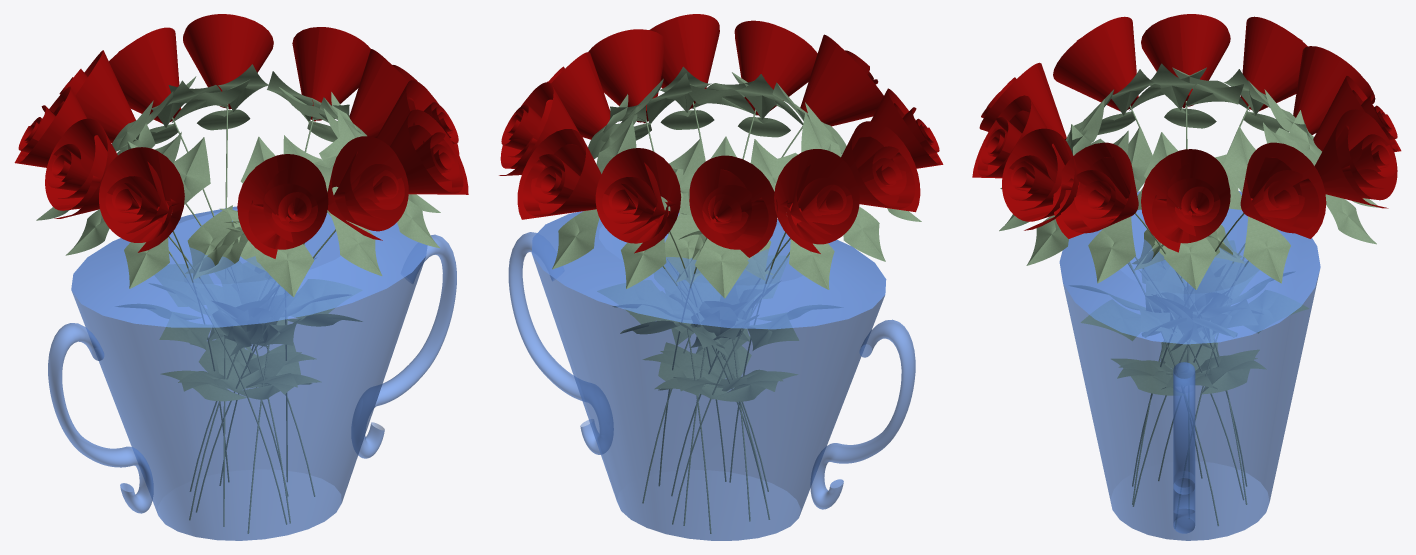
Rendered from roses.obj.
3 renders of one model, left to right at view 1: azimuth 30°, elevation 25°; view 2: azimuth 150°, elevation 25°; view 3: azimuth 270°, elevation 25°, orthographic.
Parts seen in each view (by area): view 1: Mesh169 Component_11_1 Model, Mesh171 Model, Mesh96 Component_6_7 Component_7_7 Component_9_3 Component_10_2 , Mesh166 Component_6_12 Component_7_12 Component_9_4 Component_10, Mesh170 Model, Mesh54 Component_6_4 Component_7_4 Component_9_2 Component_10_1 , Mesh40 Component_6_3 Component_7_3 Component_9_1 Component_10_1 , Mesh110 Component_6_8 Component_7_8 Component_9_3 Component_10_2, Mesh152 Component_6_11 Component_7_11 Component_9_4 Component_10, Mesh68 Component_6_5 Component_7_5 Component_9_2 Component_10_1 , Mesh124 Component_6_9 Component_7_9 Component_9_3 Component_10_2, Mesh138 Component_6_10 Component_7_10 Component_9_4 Component_10 (+43 smaller); view 2: Mesh169 Component_11_1 Model, Mesh171 Model, Mesh170 Model, Mesh166 Component_6_12 Component_7_12 Component_9_4 Component_10, Mesh124 Component_6_9 Component_7_9 Component_9_3 Component_10_2, Mesh152 Component_6_11 Component_7_11 Component_9_4 Component_10, Mesh82 Component_6_6 Component_7_6 Component_9_2 Component_10_1 , Mesh12 Component_6_1 Component_7_1 Component_9_1 Component_10_1 , Mesh110 Component_6_8 Component_7_8 Component_9_3 Component_10_2, Mesh138 Component_6_10 Component_7_10 Component_9_4 Component_10, Mesh96 Component_6_7 Component_7_7 Component_9_3 Component_10_2 , Mesh68 Component_6_5 Component_7_5 Component_9_2 Component_10_1  (+43 smaller); view 3: Mesh169 Component_11_1 Model, Mesh40 Component_6_3 Component_7_3 Component_9_1 Component_10_1 , Mesh68 Component_6_5 Component_7_5 Component_9_2 Component_10_1 , Mesh26 Component_6_2 Component_7_2 Component_9_1 Component_10_1 , Mesh12 Component_6_1 Component_7_1 Component_9_1 Component_10_1 , Mesh171 Model, Mesh54 Component_6_4 Component_7_4 Component_9_2 Component_10_1 , Mesh96 Component_6_7 Component_7_7 Component_9_3 Component_10_2 , Mesh124 Component_6_9 Component_7_9 Component_9_3 Component_10_2, Mesh138 Component_6_10 Component_7_10 Component_9_4 Component_10, Mesh82 Component_6_6 Component_7_6 Component_9_2 Component_10_1 , Mesh166 Component_6_12 Component_7_12 Component_9_4 Component_10 (+44 smaller).
Part boxes in pixels (x1=…): Mesh169 Component_11_1 Model: x1=71, y1=206, x2=427, y2=540; Mesh171 Model: x1=352, y1=234, x2=456, y2=458; Mesh96 Component_6_7 Component_7_7 Component_9_3 Component_10_2 : x1=183, y1=14, x2=273, y2=109; Mesh166 Component_6_12 Component_7_12 Component_9_4 Component_10: x1=237, y1=154, x2=328, y2=258; Mesh170 Model: x1=48, y1=323, x2=153, y2=513; Mesh54 Component_6_4 Component_7_4 Component_9_2 Component_10_1 : x1=292, y1=27, x2=370, y2=121; Mesh40 Component_6_3 Component_7_3 Component_9_1 Component_10_1 : x1=99, y1=147, x2=184, y2=252; Mesh110 Component_6_8 Component_7_8 Component_9_3 Component_10_2: x1=109, y1=27, x2=181, y2=123; Mesh152 Component_6_11 Component_7_11 Component_9_4 Component_10: x1=327, y1=136, x2=408, y2=240; Mesh68 Component_6_5 Component_7_5 Component_9_2 Component_10_1 : x1=349, y1=49, x2=407, y2=137; Mesh124 Component_6_9 Component_7_9 Component_9_3 Component_10_2: x1=75, y1=50, x2=135, y2=142; Mesh138 Component_6_10 Component_7_10 Component_9_4 Component_10: x1=390, y1=109, x2=468, y2=194; Mesh169 Component_11_1 Model: x1=531, y1=211, x2=886, y2=540; Mesh171 Model: x1=508, y1=232, x2=613, y2=454; Mesh170 Model: x1=810, y1=319, x2=915, y2=509; Mesh166 Component_6_12 Component_7_12 Component_9_4 Component_10: x1=800, y1=34, x2=883, y2=126; Mesh124 Component_6_9 Component_7_9 Component_9_3 Component_10_2: x1=689, y1=155, x2=777, y2=257; Mesh152 Component_6_11 Component_7_11 Component_9_4 Component_10: x1=734, y1=20, x2=817, y2=116; Mesh82 Component_6_6 Component_7_6 Component_9_2 Component_10_1 : x1=588, y1=29, x2=663, y2=123; Mesh12 Component_6_1 Component_7_1 Component_9_1 Component_10_1 : x1=774, y1=149, x2=859, y2=253; Mesh110 Component_6_8 Component_7_8 Component_9_3 Component_10_2: x1=595, y1=148, x2=681, y2=253; Mesh138 Component_6_10 Component_7_10 Component_9_4 Component_10: x1=649, y1=14, x2=719, y2=109; Mesh96 Component_6_7 Component_7_7 Component_9_3 Component_10_2 : x1=517, y1=129, x2=601, y2=219; Mesh68 Component_6_5 Component_7_5 Component_9_2 Component_10_1 : x1=551, y1=52, x2=610, y2=139; Mesh169 Component_11_1 Model: x1=1059, y1=191, x2=1320, y2=540; Mesh40 Component_6_3 Component_7_3 Component_9_1 Component_10_1 : x1=1053, y1=16, x2=1138, y2=111; Mesh68 Component_6_5 Component_7_5 Component_9_2 Component_10_1 : x1=1141, y1=149, x2=1230, y2=252; Mesh26 Component_6_2 Component_7_2 Component_9_1 Component_10_1 : x1=1141, y1=14, x2=1230, y2=107; Mesh12 Component_6_1 Component_7_1 Component_9_1 Component_10_1 : x1=1240, y1=16, x2=1307, y2=111; Mesh171 Model: x1=1173, y1=362, x2=1195, y2=533; Mesh54 Component_6_4 Component_7_4 Component_9_2 Component_10_1 : x1=1240, y1=142, x2=1326, y2=238; Mesh96 Component_6_7 Component_7_7 Component_9_3 Component_10_2 : x1=1314, y1=109, x2=1397, y2=208; Mesh124 Component_6_9 Component_7_9 Component_9_3 Component_10_2: x1=1293, y1=46, x2=1375, y2=134; Mesh138 Component_6_10 Component_7_10 Component_9_4 Component_10: x1=1002, y1=128, x2=1079, y2=230; Mesh82 Component_6_6 Component_7_6 Component_9_2 Component_10_1 : x1=1053, y1=142, x2=1138, y2=238; Mesh166 Component_6_12 Component_7_12 Component_9_4 Component_10: x1=979, y1=62, x2=1066, y2=138.
Bounding box in the file's own units: 309 × 308 × 289.
4 materials, 1 textured.
